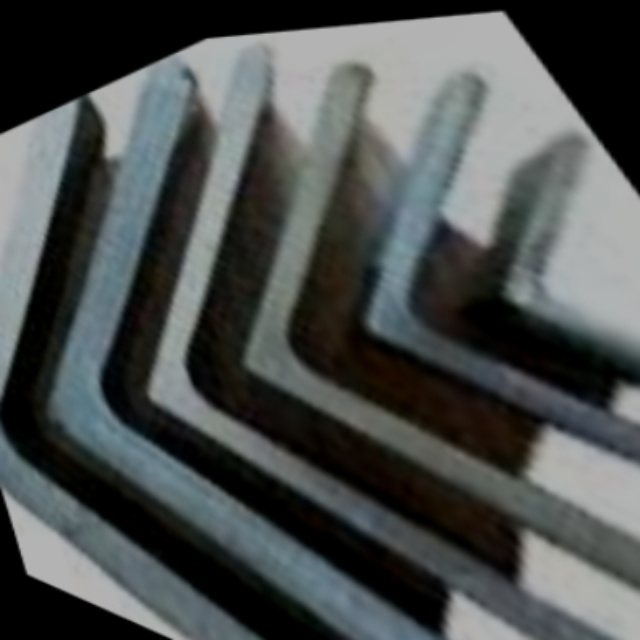Angle: (49, 30, 640, 640), (0, 45, 537, 640), (159, 55, 640, 640), (0, 78, 387, 640), (275, 62, 640, 590), (441, 142, 640, 449)
